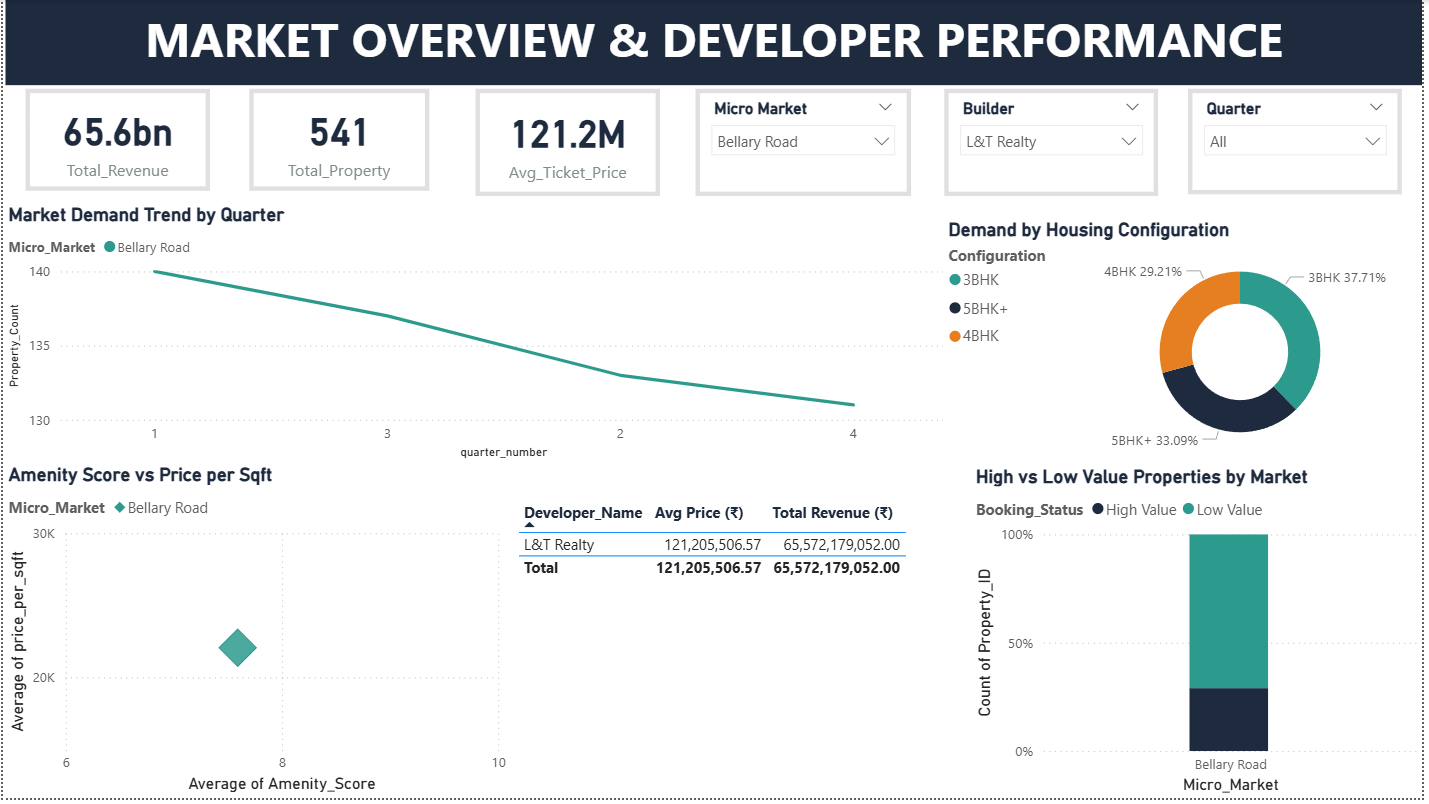

What the dashboard file says about the page in this screenshot:
{"tool":"powerbi","page":{"name":"Page 1","canvas":[1280,720],"ordinal":0},"visuals":[{"type":"lineChart","title":"Market Demand Trend by Quarter","fields":{"Category":["luxury_housing_db luxury_housing.quarter_number"],"Y":["luxury_housing_db luxury_housing.Property_Count"],"Series":["luxury_housing_db luxury_housing.Micro_Market"]},"box":[0,183.4,856,234.8],"z":0},{"type":"tableEx","fields":{"Values":["luxury_housing_db luxury_housing.Developer_Name","luxury_housing_db luxury_housing.Avg_Price","luxury_housing_db luxury_housing.Total_Revenue"]},"box":[458.7,446.7,432,273.3],"z":1000},{"type":"scatterChart","title":"Amenity Score vs Price per Sqft","fields":{"X":["Avg(luxury_housing_db luxury_housing.Amenity_Score)"],"Y":["Avg(luxury_housing_db luxury_housing.price_per_sqft)"],"Series":["luxury_housing_db luxury_housing.Micro_Market"],"Size":["luxury_housing_db luxury_housing.Property_Count"]},"box":[0,418.7,458.7,301.3],"z":2000},{"type":"hundredPercentStackedColumnChart","title":"High vs Low Value Properties by Market","fields":{"Category":["luxury_housing_db luxury_housing.Micro_Market"],"Series":["luxury_housing_db luxury_housing.Booking_Status"],"Y":["CountNonNull(luxury_housing_db luxury_housing.Property_ID)"]},"box":[872,418.9,408.3,301.6],"z":3000},{"type":"donutChart","title":"Demand by Housing Configuration","fields":{"Category":["luxury_housing_db luxury_housing.Configuration"],"Y":["luxury_housing_db luxury_housing.Property_Count"]},"box":[848,197.3,432,221.3],"z":4000},{"type":"slicer","fields":{"Values":["luxury_housing_db luxury_housing.Developer_Name"]},"box":[848.9,79.9,192.9,96.5],"z":5000},{"type":"slicer","fields":{"Values":["luxury_housing_db luxury_housing.quarter_number"]},"box":[1068,79.9,192.9,95.1],"z":6000},{"type":"slicer","fields":{"Values":["luxury_housing_db luxury_housing.Micro_Market"]},"box":[624.3,79.9,194.3,96.5],"z":7000},{"type":"textbox","box":[2.4,0,1277.9,77],"z":8000},{"type":"card","fields":{"Values":["luxury_housing_db luxury_housing.Total_Revenue"]},"box":[20.7,79.9,166.8,92.3],"z":9000},{"type":"card","fields":{"Values":["luxury_housing_db luxury_housing.Property_Count"]},"box":[221.9,79.9,162.6,92.3],"z":10000},{"type":"card","fields":{"Values":["luxury_housing_db luxury_housing.Avg_Price"]},"box":[425.8,79.9,166.8,96.5],"z":11000}]}

Visuals, with their boxes in screenshot pixels (x1, y1, x2, y2), scaled from the page's 1280x720 canvas onto the 1429x804 screenshot:
"Market Demand Trend by Quarter" lineChart: [0, 205, 956, 467]
tableEx - luxury_housing_db luxury_housing.Developer_Name x luxury_housing_db luxury_housing.Avg_Price: [512, 499, 994, 803]
"Amenity Score vs Price per Sqft" scatterChart: [0, 468, 512, 803]
"High vs Low Value Properties by Market" hundredPercentStackedColumnChart: [974, 468, 1428, 803]
"Demand by Housing Configuration" donutChart: [947, 220, 1428, 467]
slicer - luxury_housing_db luxury_housing.Developer_Name: [948, 89, 1163, 197]
slicer - luxury_housing_db luxury_housing.quarter_number: [1192, 89, 1408, 195]
slicer - luxury_housing_db luxury_housing.Micro_Market: [697, 89, 914, 197]
textbox: [3, 0, 1428, 86]
card - luxury_housing_db luxury_housing.Total_Revenue: [23, 89, 209, 192]
card - luxury_housing_db luxury_housing.Property_Count: [248, 89, 429, 192]
card - luxury_housing_db luxury_housing.Avg_Price: [475, 89, 662, 197]
